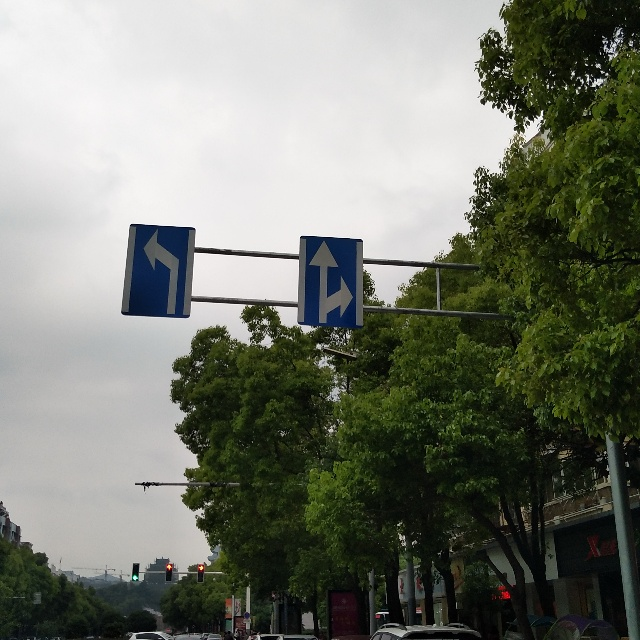left: (135, 218, 183, 318)
